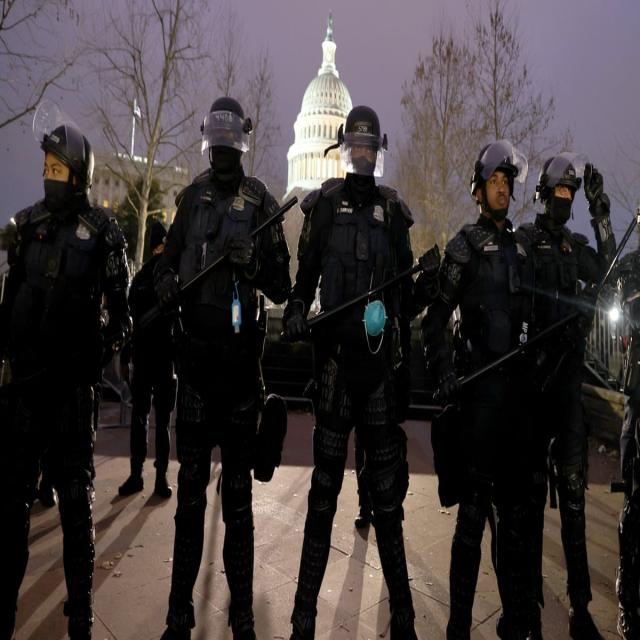police: (288, 81, 425, 640), (146, 76, 278, 640), (0, 97, 129, 640), (514, 125, 620, 640), (436, 121, 538, 632)
